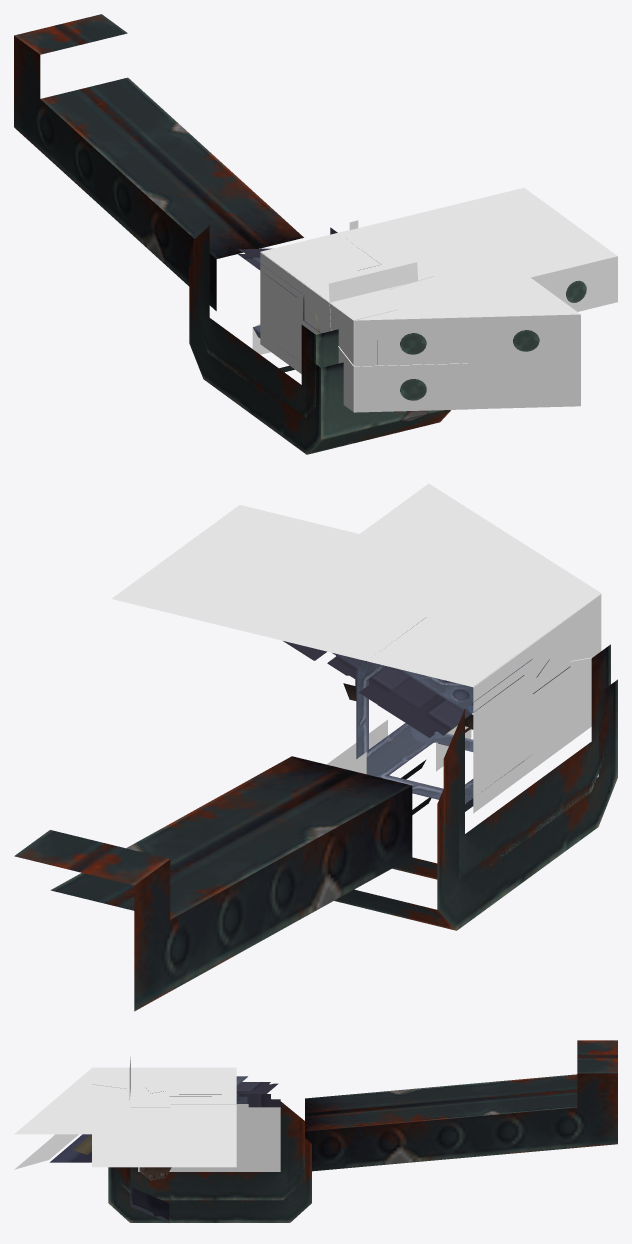
File: rail.glb
The picture shows the model from 3 angles, top to bottom: view 1: azimuth 30°, elevation 25°; view 2: azimuth 150°, elevation 25°; view 3: azimuth 270°, elevation 25°; orthographic projection. The views are drawn at different scales.
Parts seen in each view (by area): view 1: rsrc.world.tileset.clockworks_poison.edge_rail.rail-Variant[ (×11); view 2: rsrc.world.tileset.clockworks_poison.edge_rail.rail-Variant[ (×12); view 3: rsrc.world.tileset.clockworks_poison.edge_rail.rail-Variant[ (×14).
Part boxes in pixels (x1,y1,x2,y2): rsrc.world.tileset.clockworks_poison.edge_rail.rail-Variant[ (×11): (14,14,617,454); rsrc.world.tileset.clockworks_poison.edge_rail.rail-Variant[ (×12): (14,483,617,1011); rsrc.world.tileset.clockworks_poison.edge_rail.rail-Variant[ (×14): (14,1040,617,1222).
Bounding box in the file's own units: 3.26 × 1.99 × 7.72.
7 materials, 6 textured.
